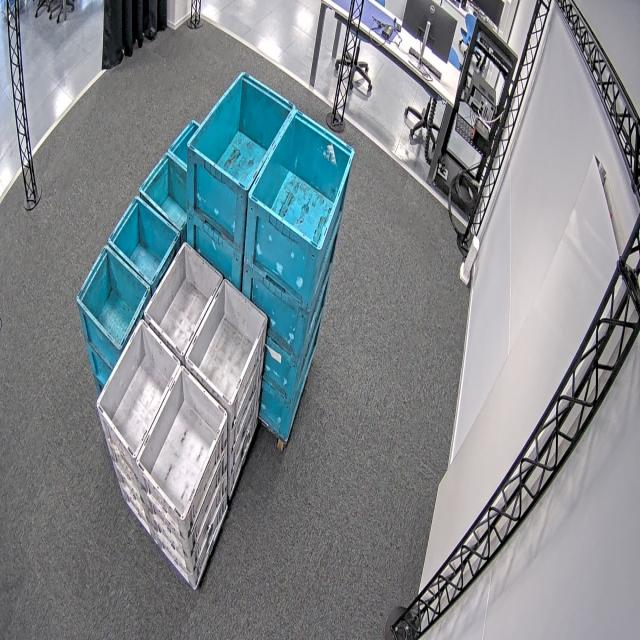Roll8G: (95, 316, 229, 521), (142, 237, 270, 408)
RollB4: (246, 106, 357, 254), (187, 68, 298, 192)
RollB8: (74, 193, 182, 350), (137, 113, 205, 232)
